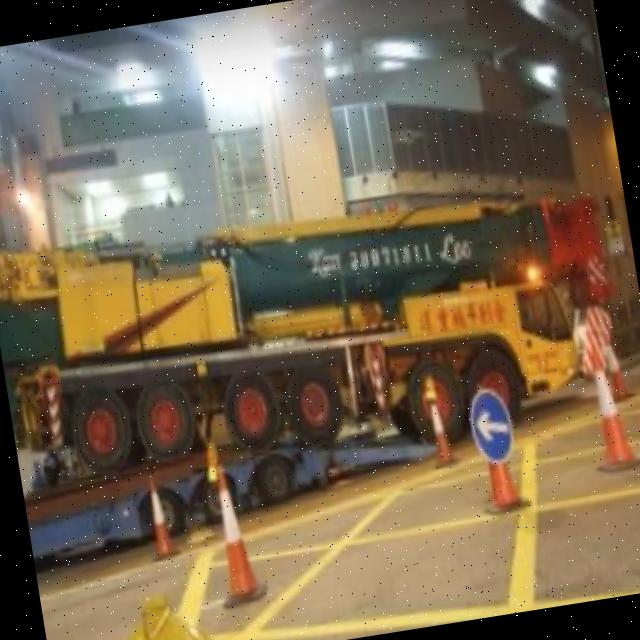Mobile Crane: (0, 151, 625, 504)
